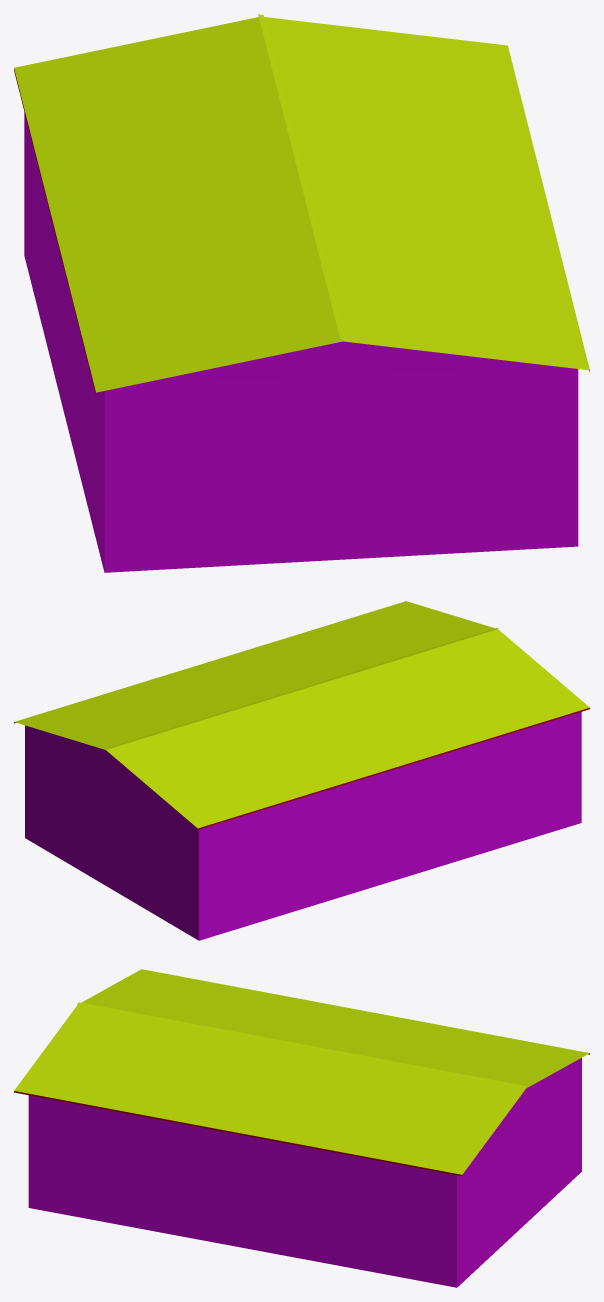
The model's file is bgj_47.glb.
3 views of the same model, one above another, from view 1: azimuth 30°, elevation 25°; view 2: azimuth 150°, elevation 25°; view 3: azimuth 270°, elevation 25° (orthographic). The views are drawn at different scales.
Visible parts, largest first — view 1: bgj_47; view 2: bgj_47; view 3: bgj_47.
Boxes of the visible parts, x1,y1,x2,y2 form: bgj_47: (14,14,589,572); bgj_47: (14,601,589,940); bgj_47: (14,969,589,1287).
Bounding box in the file's own units: 32.45 × 10.6 × 38.41.
